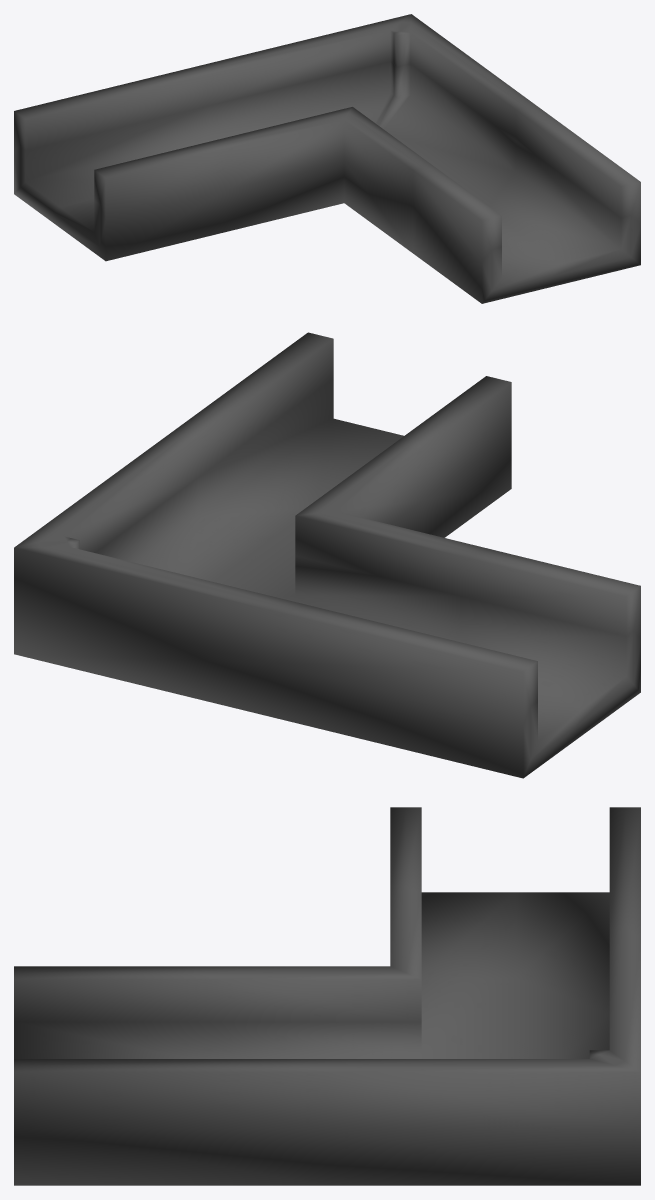
3 renders of one model, top to bottom at view 1: azimuth 30°, elevation 25°; view 2: azimuth 150°, elevation 25°; view 3: azimuth 270°, elevation 25°, orthographic. The views are drawn at different scales.
Parts seen in each view (by area): view 1: defaultobject; view 2: defaultobject; view 3: defaultobject.
Part boxes in pixels (x1,y1,x2,y2): defaultobject: [14, 14, 640, 303]; defaultobject: [14, 332, 640, 778]; defaultobject: [14, 807, 640, 1185].
Bounding box in the file's own units: 0.625 × 0.125 × 0.625.
1 material, 1 textured.
